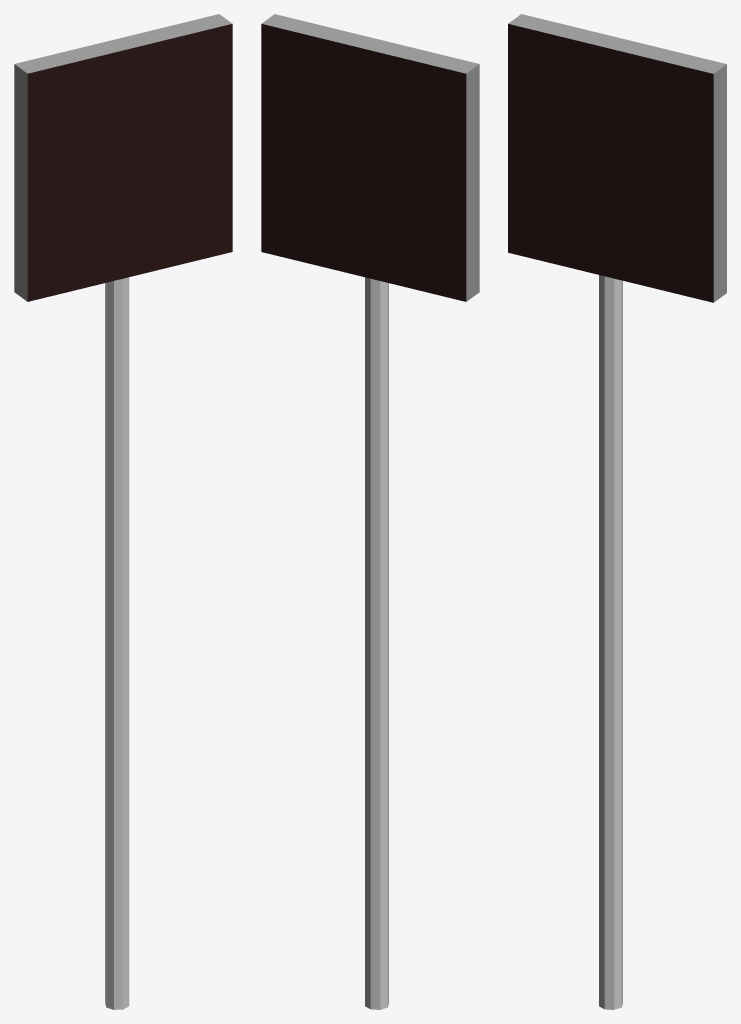
Rendered from Panneau5.fbx.
3 views of the same model, side by side, from view 1: azimuth 30°, elevation 25°; view 2: azimuth 150°, elevation 25°; view 3: azimuth 330°, elevation 25° (orthographic).
Visible parts, largest first — view 1: pCube5, pCylinder9; view 2: pCube5, pCylinder9; view 3: pCube5, pCylinder9.
Boxes of the visible parts, left/top/right/bottom form: pCube5: left=14, top=14, right=232, bottom=301; pCylinder9: left=105, top=277, right=129, bottom=1009; pCube5: left=261, top=14, right=479, bottom=301; pCylinder9: left=365, top=277, right=388, bottom=1009; pCube5: left=508, top=14, right=726, bottom=302; pCylinder9: left=599, top=275, right=622, bottom=1009.
Bounding box in the file's own units: 3.66 × 16.39 × 0.4129.
